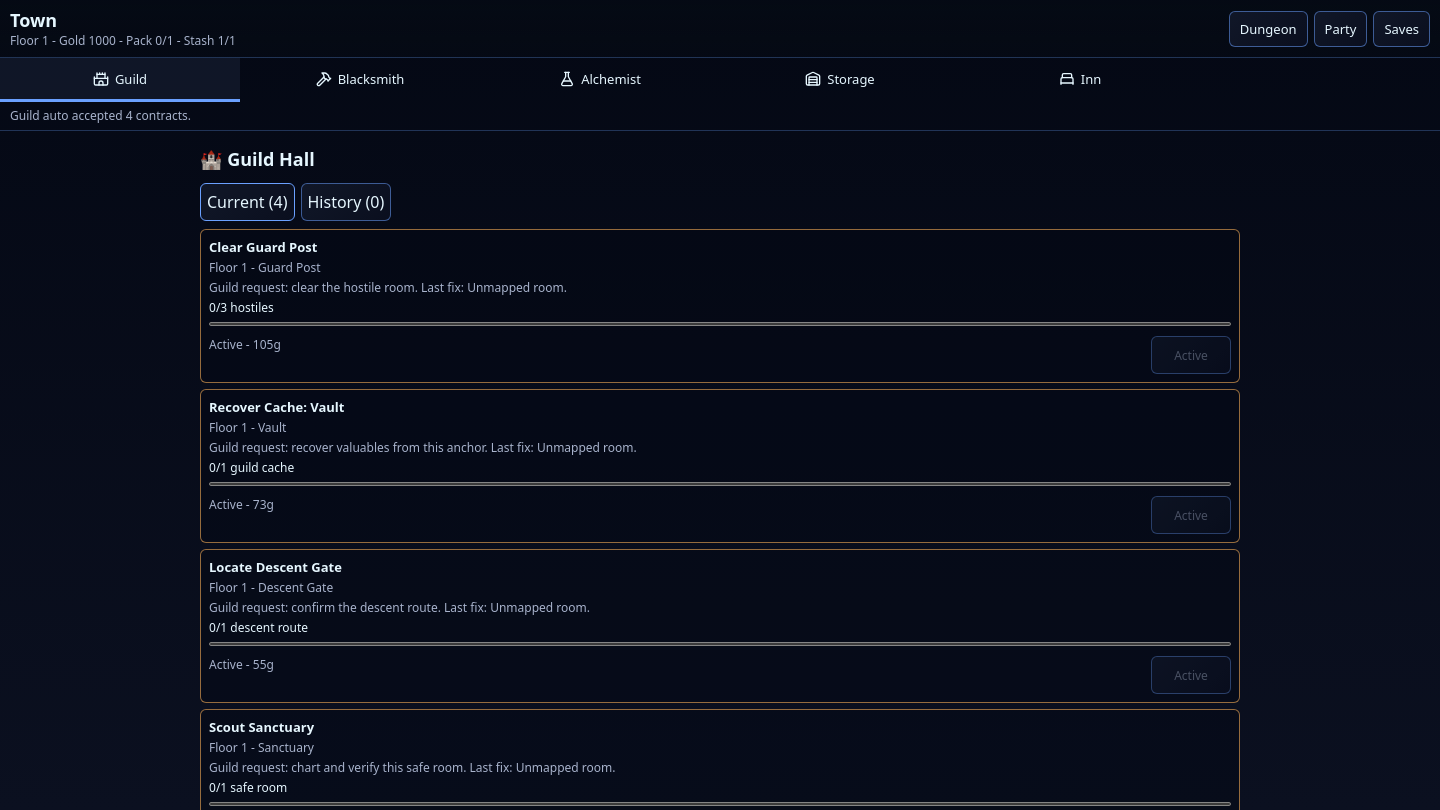
Test: town capacity UI › shows the same bag-only count in the town header and storage without mutating ownership
Expected: the text "Floor 1 - Gold 1000 - Pack 0/1 - Stash 1/1" is shown, [10,32,236,49]
Click the tab "Storage". click: (840, 80)
box: [720,58,960,102]
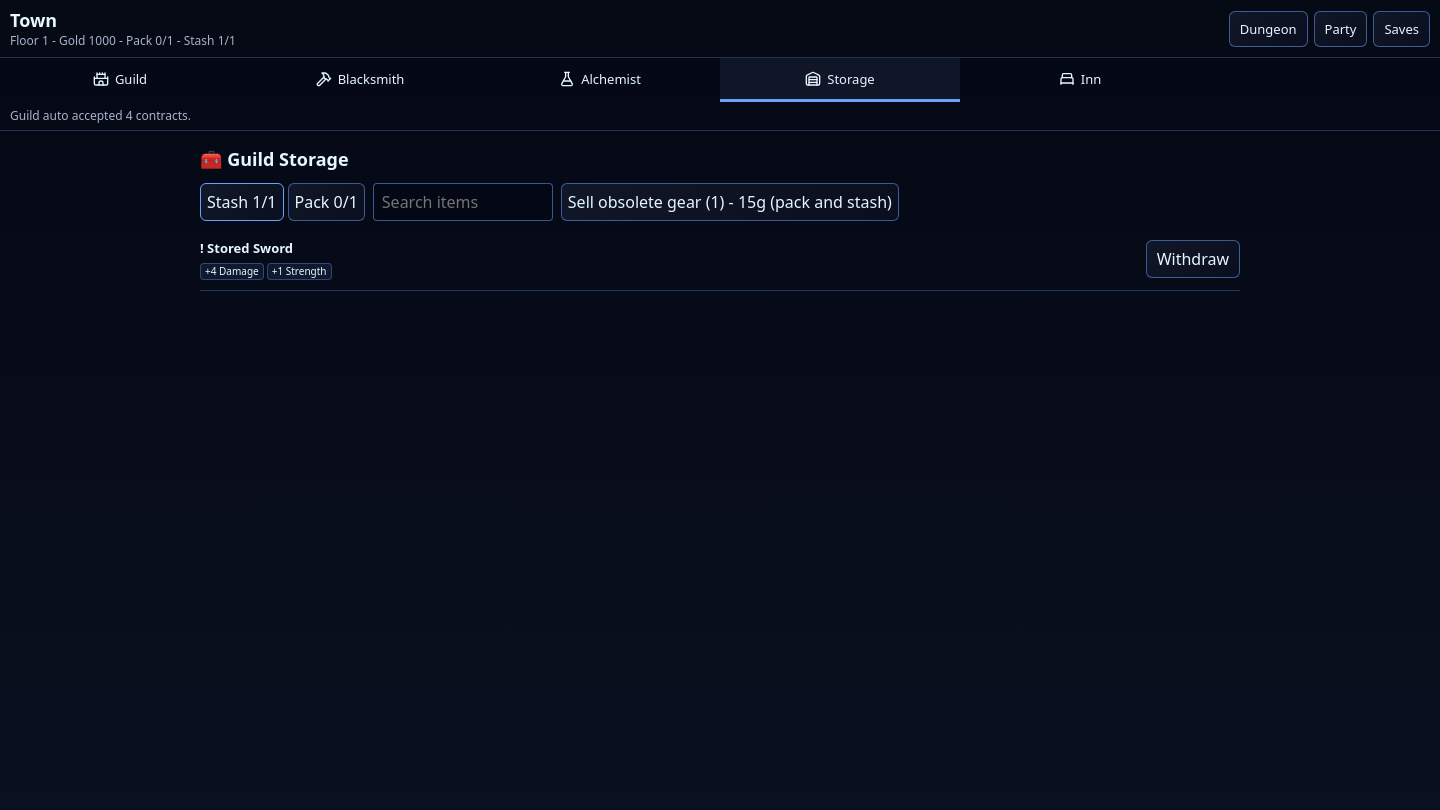
Expected: the button "Pack 0/1" is shown, [288,183,365,221]
Expected: the button "Stash 1/1" is shown, [200,183,284,221]
